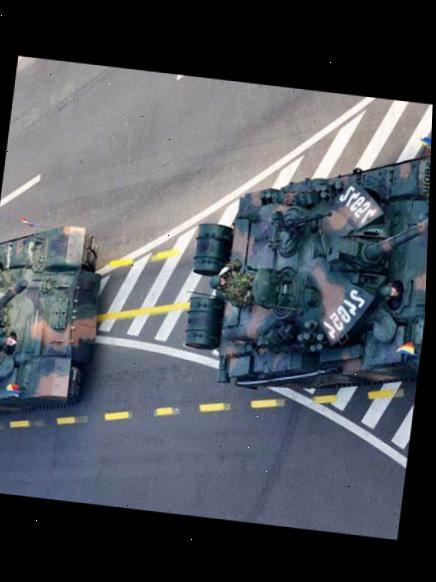tank: (158, 103, 432, 419), (0, 209, 106, 439)
